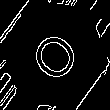O_SE: (24, 22, 86, 88)
